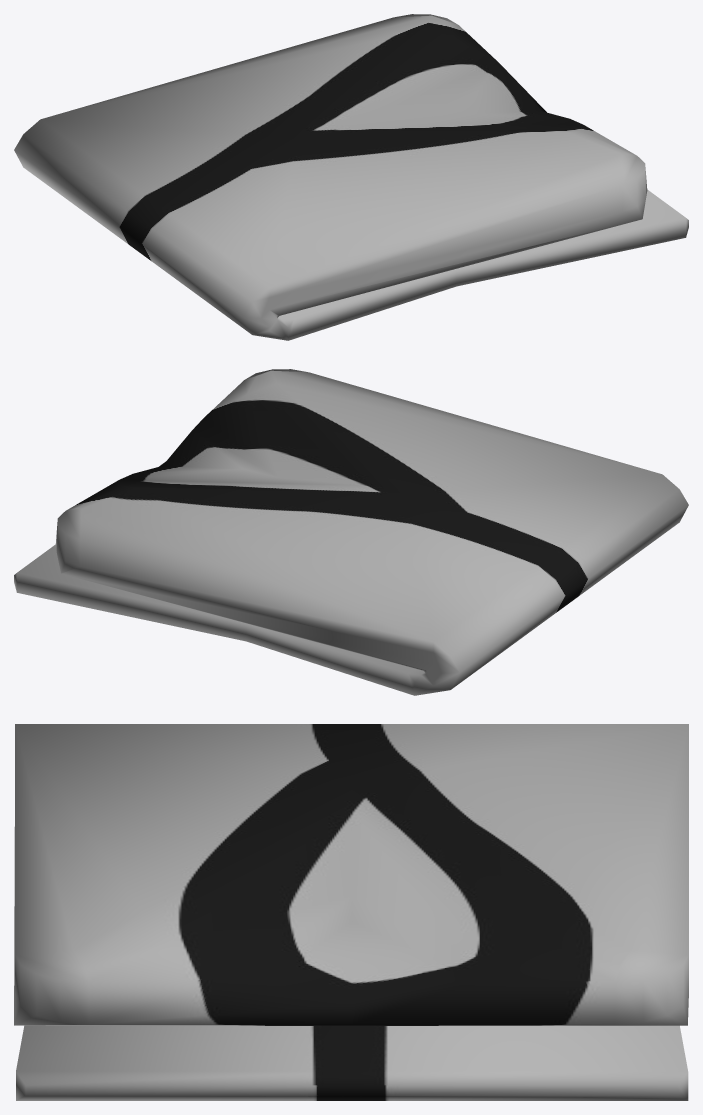
File: clothe.fbx
3 renders of one model, top to bottom at view 1: azimuth 30°, elevation 25°; view 2: azimuth 150°, elevation 25°; view 3: azimuth 270°, elevation 25°, orthographic. The views are drawn at different scales.
Visible parts, largest first — view 1: bornoz.002; view 2: bornoz.002; view 3: bornoz.002.
Boxes of the visible parts, box(x1,y1,x2,y2) form: bornoz.002: box(14, 14, 688, 340); bornoz.002: box(14, 369, 688, 695); bornoz.002: box(14, 724, 688, 1100).
Size of the model in its own units: 40.51 by 8.39 by 35.81.
